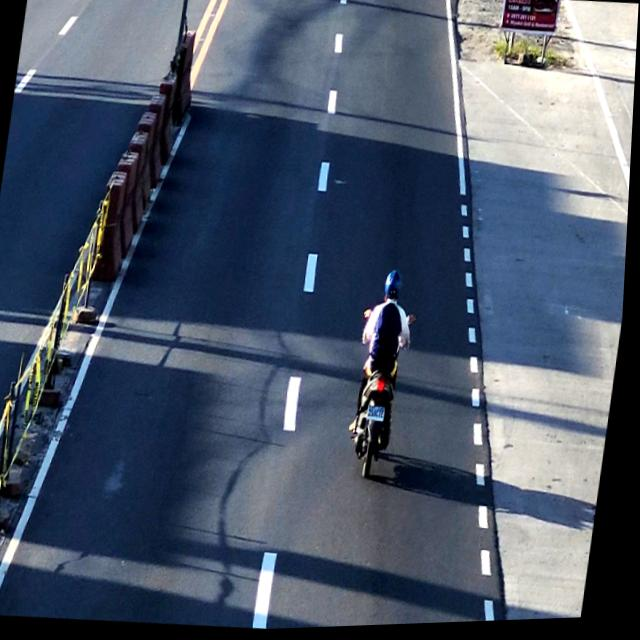License-Plate: (369, 407, 390, 427)
Motorcycle: (350, 268, 428, 488)
